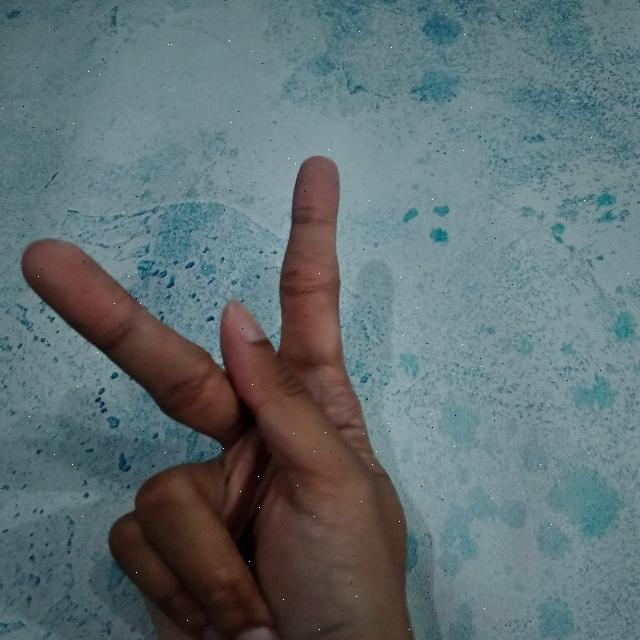K: (18, 151, 421, 640)
